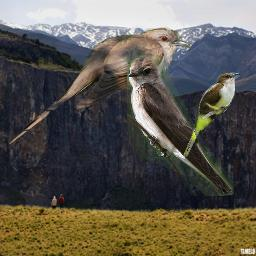Cuckoo: (8, 27, 192, 146), (183, 72, 240, 157)
Swallow: (127, 55, 234, 196)
